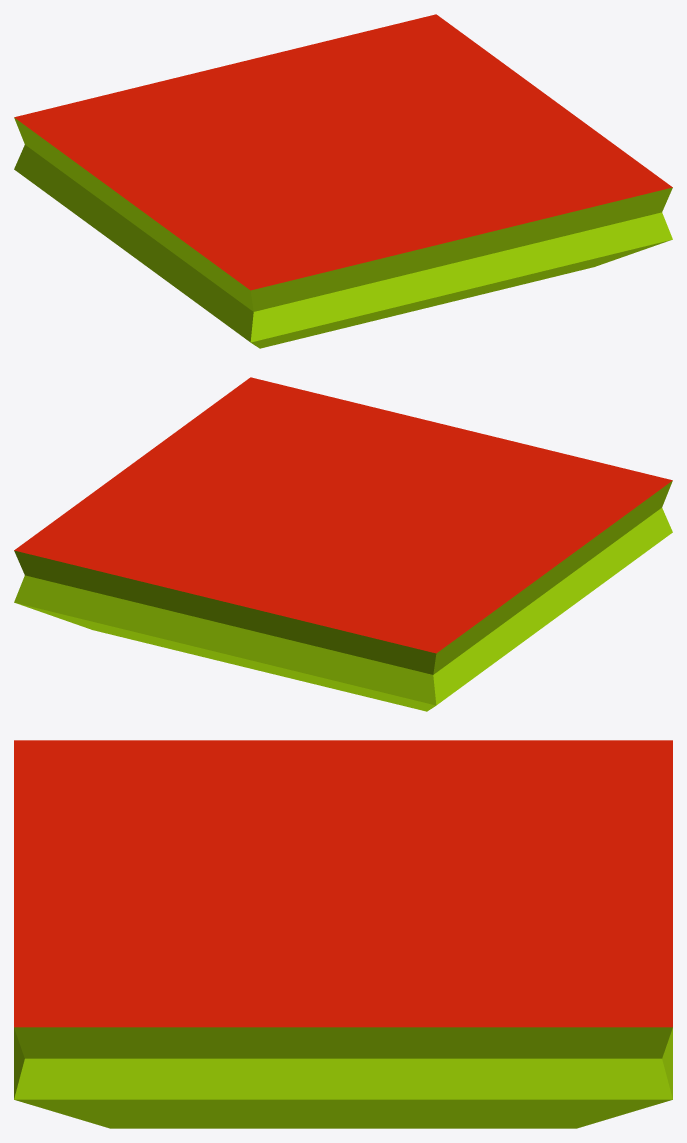
Rendered from New Moving Platform.fbx.
3 renders of one model, top to bottom at view 1: azimuth 30°, elevation 25°; view 2: azimuth 150°, elevation 25°; view 3: azimuth 270°, elevation 25°, orthographic. The views are drawn at different scales.
Visible parts, largest first — view 1: Cube.021; view 2: Cube.021; view 3: Cube.021.
Boxes of the visible parts, x1=… form: Cube.021: x1=14, y1=14, x2=672, y2=348; Cube.021: x1=14, y1=377, x2=672, y2=711; Cube.021: x1=14, y1=740, x2=672, y2=1128.
Bounding box in the file's own units: 1778 × 380 × 1726.
